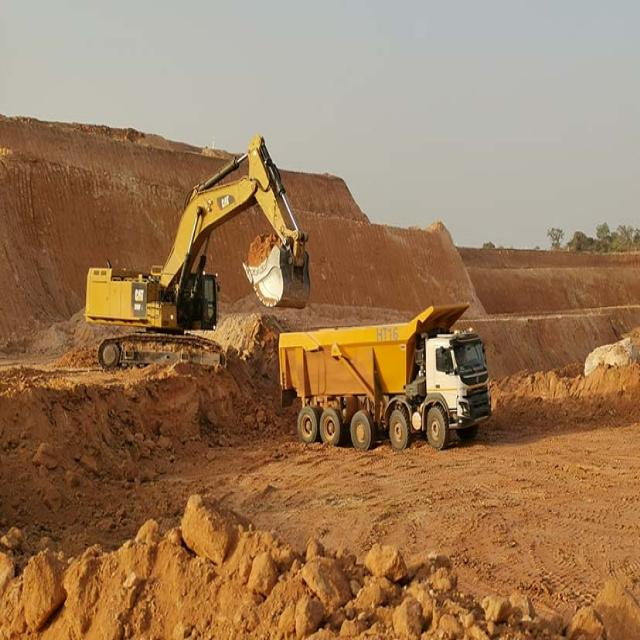dump_truck: (274, 304, 533, 457)
excavator: (63, 108, 327, 330)
